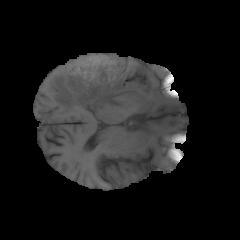glioma: (52, 53, 140, 111)
